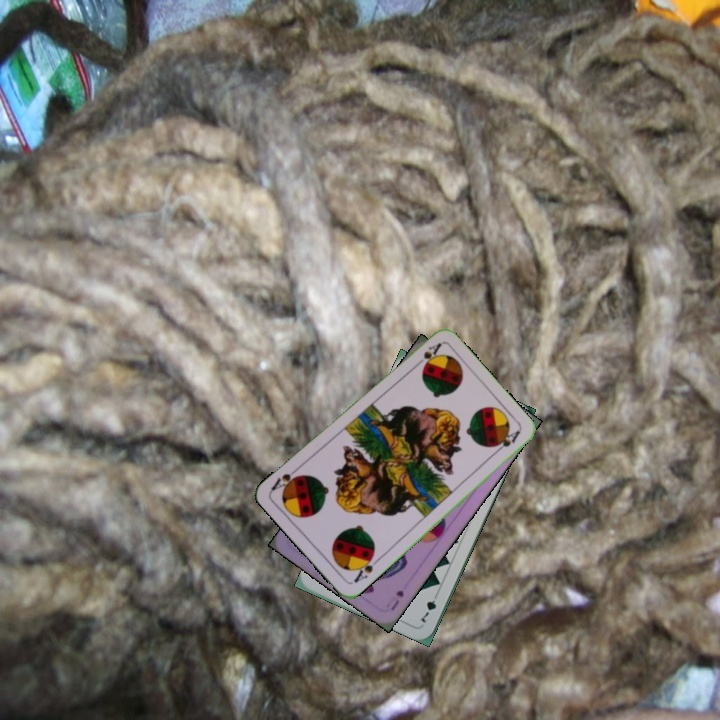G7: (417, 588, 441, 626)
SA: (350, 550, 382, 586), (410, 339, 444, 370)
SU: (387, 586, 406, 613)
